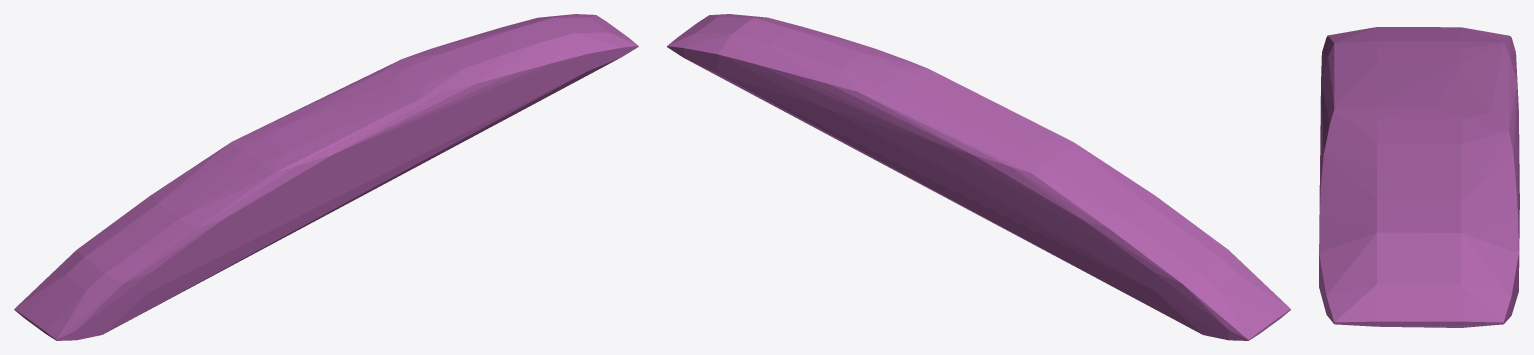
File: right_forearm_0_part_7.obj
3 views of the same model, side by side, from view 1: azimuth 30°, elevation 25°; view 2: azimuth 150°, elevation 25°; view 3: azimuth 270°, elevation 25° (orthographic). The views are drawn at different scales.
Bounding box in the file's own units: 36.07 × 10.55 × 5.39.
